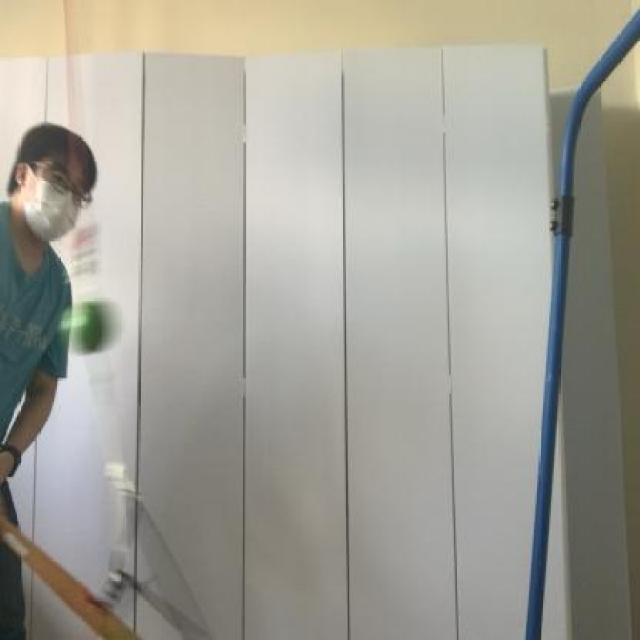baseball: (51, 280, 126, 369)
